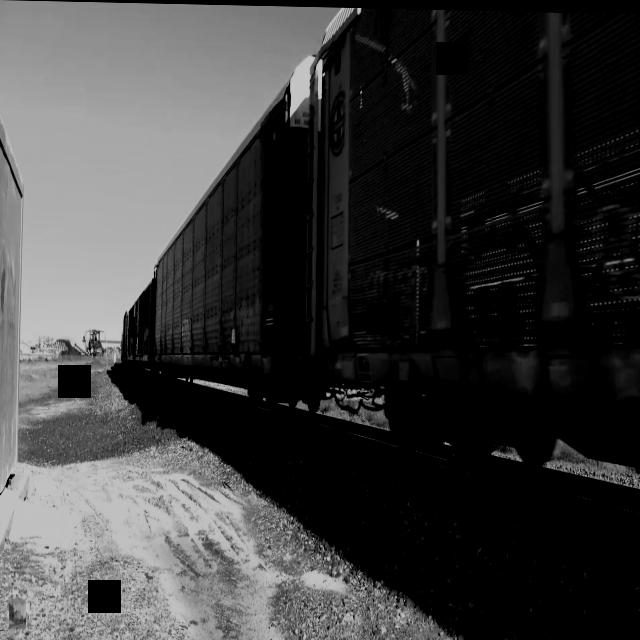autorack: (302, 6, 640, 495), (152, 41, 314, 416)
